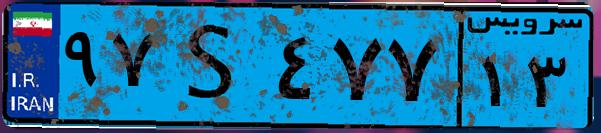1: (475, 38, 525, 113)
3: (525, 38, 570, 115)
4: (270, 28, 330, 110)
7: (385, 28, 445, 110), (330, 28, 385, 110), (110, 28, 158, 98)
9: (57, 26, 110, 100)
S: (158, 12, 270, 120)
